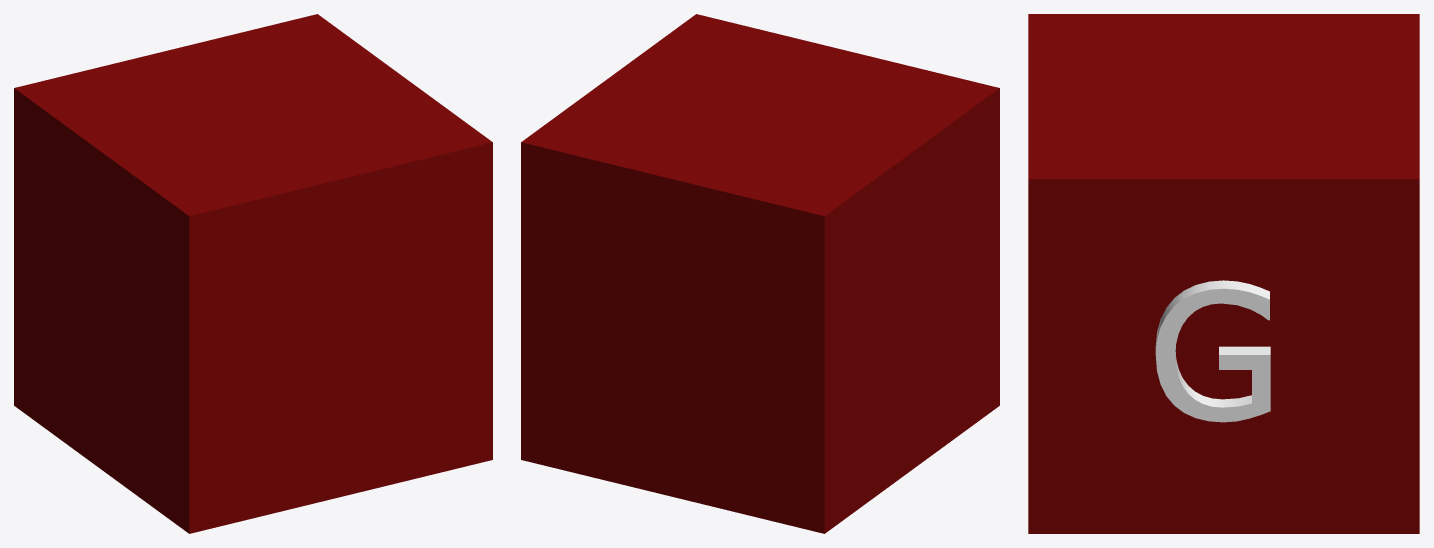
The picture shows the model from 3 angles, left to right: view 1: azimuth 30°, elevation 25°; view 2: azimuth 150°, elevation 25°; view 3: azimuth 270°, elevation 25°; orthographic projection. The views are drawn at different scales.
Parts seen in each view (by area): view 1: SketchUp; view 2: SketchUp; view 3: SketchUp, G_1.
Boxes of the visible parts, left/top/right/bottom form: SketchUp: left=14, top=14, right=492, bottom=533; SketchUp: left=521, top=14, right=999, bottom=533; SketchUp: left=1028, top=14, right=1419, bottom=533; G_1: left=1155, top=280, right=1270, bottom=422.
Bounding box in the file's own units: 21 × 20 × 20.
